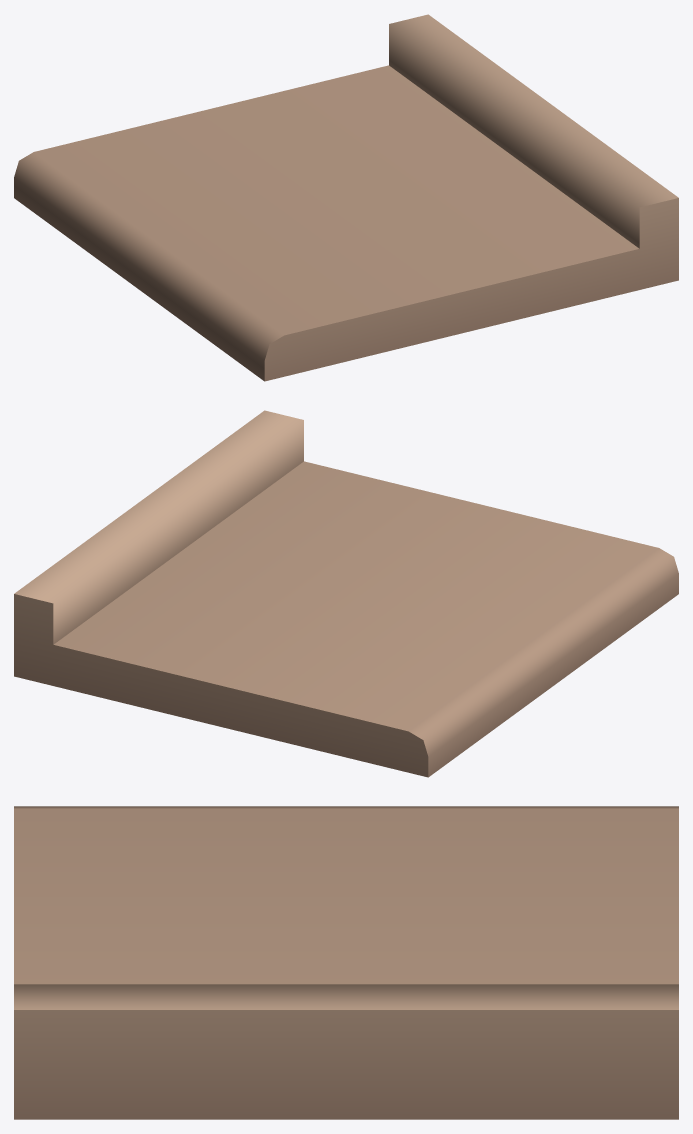
Rendered from cabinet-decorative-top.glb.
3 renders of one model, top to bottom at view 1: azimuth 30°, elevation 25°; view 2: azimuth 150°, elevation 25°; view 3: azimuth 270°, elevation 25°, orthographic. The views are drawn at different scales.
Parts seen in each view (by area): view 1: cabinet-decorative-top; view 2: cabinet-decorative-top; view 3: cabinet-decorative-top.
Part boxes in pixels (x1=…): cabinet-decorative-top: x1=14, y1=14, x2=678, y2=381; cabinet-decorative-top: x1=14, y1=410, x2=678, y2=777; cabinet-decorative-top: x1=14, y1=806, x2=678, y2=1119.
Size of the model in its own units: 0.525 by 0.1 by 0.55.
